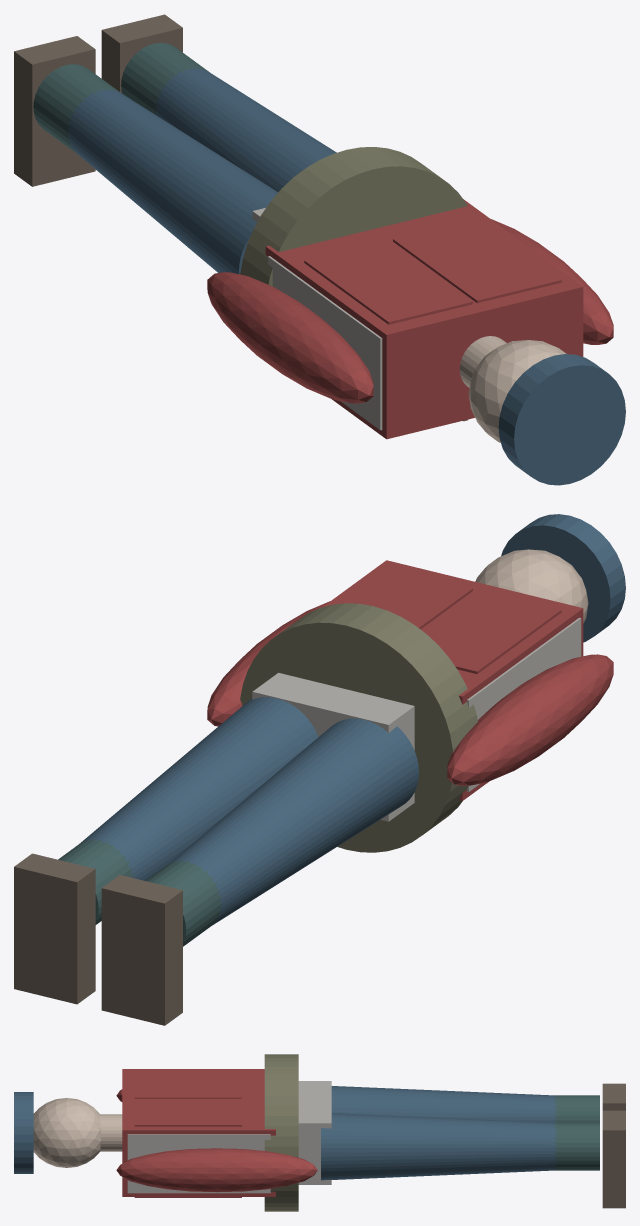
File: MASTER_044_STAGE3_DETAIL.glb
3 renders of one model, top to bottom at view 1: azimuth 30°, elevation 25°; view 2: azimuth 150°, elevation 25°; view 3: azimuth 270°, elevation 25°, orthographic. The views are drawn at different scales.
Visible parts, largest first — view 1: slot_upper_inner__këmishë, slot_lower_main__pantallona_L, slot_waist__brez, slot_headwear__mbulesë_koke, slot_upper_inner_sleeve_L, slot_lower_main__pantallona_R, slot_upper_outer__jelek/xhamadan_R, slot_upper_outer__jelek/xhamadan_L, slot_footwear__opinga_L, mannequin_torso, mannequin_head, slot_legwear__çorape_L (+4 smaller); view 2: slot_lower_main__pantallona_L, slot_waist__brez, slot_lower_main__pantallona_R, slot_footwear__opinga_R, slot_footwear__opinga_L, slot_upper_inner_sleeve_L, slot_upper_outer__jelek/xhamadan_L, slot_headwear__mbulesë_koke, mannequin_hips, slot_upper_inner__këmishë, mannequin_head, slot_upper_outer__jelek/xhamadan_R (+4 smaller); view 3: slot_lower_main__pantallona_R, slot_upper_inner_sleeve_R, slot_lower_main__pantallona_L, slot_upper_inner__këmishë, slot_waist__brez, mannequin_head, slot_upper_outer__jelek/xhamadan_R, mannequin_torso, slot_upper_outer__jelek/xhamadan_L, mannequin_hips, slot_footwear__opinga_R, slot_legwear__çorape_R (+4 smaller).
Boxes of the visible parts, x1,y1,x2,y2 form: slot_upper_inner__këmishë: (265, 199, 583, 439); slot_lower_main__pantallona_L: (67, 89, 277, 274); slot_waist__brez: (240, 147, 467, 286); slot_headwear__mbulesë_koke: (498, 354, 625, 485); slot_upper_inner_sleeve_L: (207, 272, 373, 403); slot_lower_main__pantallona_R: (155, 68, 336, 192); slot_upper_outer__jelek/xhamadan_R: (393, 218, 561, 303); slot_upper_outer__jelek/xhamadan_L: (304, 240, 472, 324); slot_footwear__opinga_L: (14, 36, 95, 186); mannequin_torso: (268, 256, 382, 430); mannequin_head: (468, 340, 566, 442); slot_legwear__çorape_L: (33, 64, 121, 154); slot_lower_main__pantallona_L: (167, 718, 418, 925); slot_waist__brez: (240, 603, 477, 852); slot_lower_main__pantallona_R: (79, 697, 318, 880); slot_footwear__opinga_R: (14, 853, 95, 1004); slot_footwear__opinga_L: (101, 875, 182, 1025); slot_upper_inner_sleeve_L: (447, 654, 613, 785); slot_upper_outer__jelek/xhamadan_L: (422, 589, 561, 673); slot_headwear__mbulesë_koke: (501, 514, 625, 642); mannequin_hips: (252, 672, 414, 821); slot_upper_inner__këmishë: (322, 560, 583, 800); mannequin_head: (475, 549, 588, 623); slot_upper_outer__jelek/xhamadan_R: (340, 568, 472, 629); slot_lower_main__pantallona_R: (321, 1113, 556, 1180); slot_upper_inner_sleeve_R: (116, 1148, 317, 1192); slot_lower_main__pantallona_L: (331, 1086, 556, 1122); slot_upper_inner__këmishë: (122, 1069, 275, 1196); slot_waist__brez: (264, 1054, 298, 1211); mannequin_head: (33, 1098, 100, 1167); slot_upper_outer__jelek/xhamadan_R: (134, 1098, 241, 1197); mannequin_torso: (127, 1134, 270, 1193); slot_upper_outer__jelek/xhamadan_L: (134, 1071, 241, 1098); mannequin_hips: (298, 1081, 331, 1184); slot_footwear__opinga_R: (602, 1110, 625, 1208); slot_legwear__çorape_R: (554, 1122, 599, 1170).
Size of the model in its own units: 0.6161 by 0.44 by 1.71.
